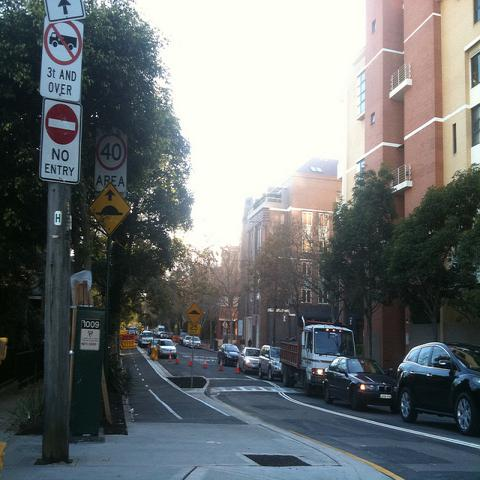car: (396, 342, 480, 432), (322, 356, 401, 414), (258, 345, 283, 381), (238, 346, 261, 374), (218, 344, 240, 366), (156, 339, 178, 359), (147, 339, 159, 354), (190, 336, 202, 349), (178, 332, 189, 346), (183, 336, 192, 346), (127, 327, 137, 334), (159, 332, 168, 339), (166, 331, 173, 338)
truck: (280, 320, 355, 398)
